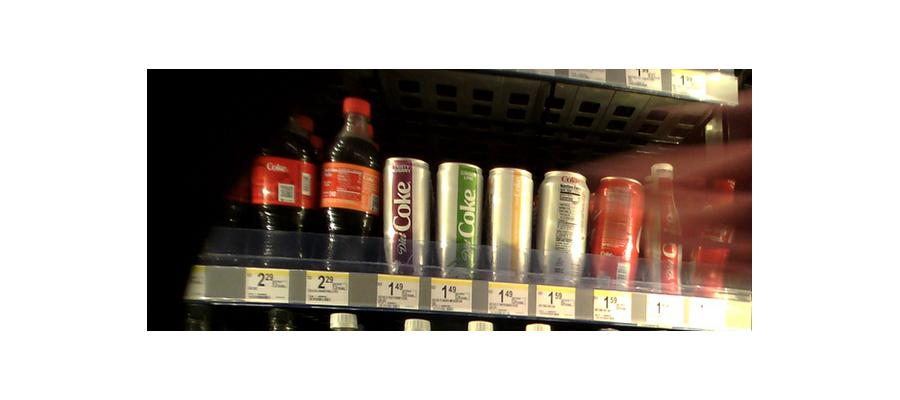bottle: (253, 106, 314, 264), (319, 100, 376, 265), (591, 169, 643, 289), (486, 167, 538, 281), (379, 156, 428, 276), (645, 155, 687, 295), (540, 169, 591, 282), (435, 161, 483, 276)
